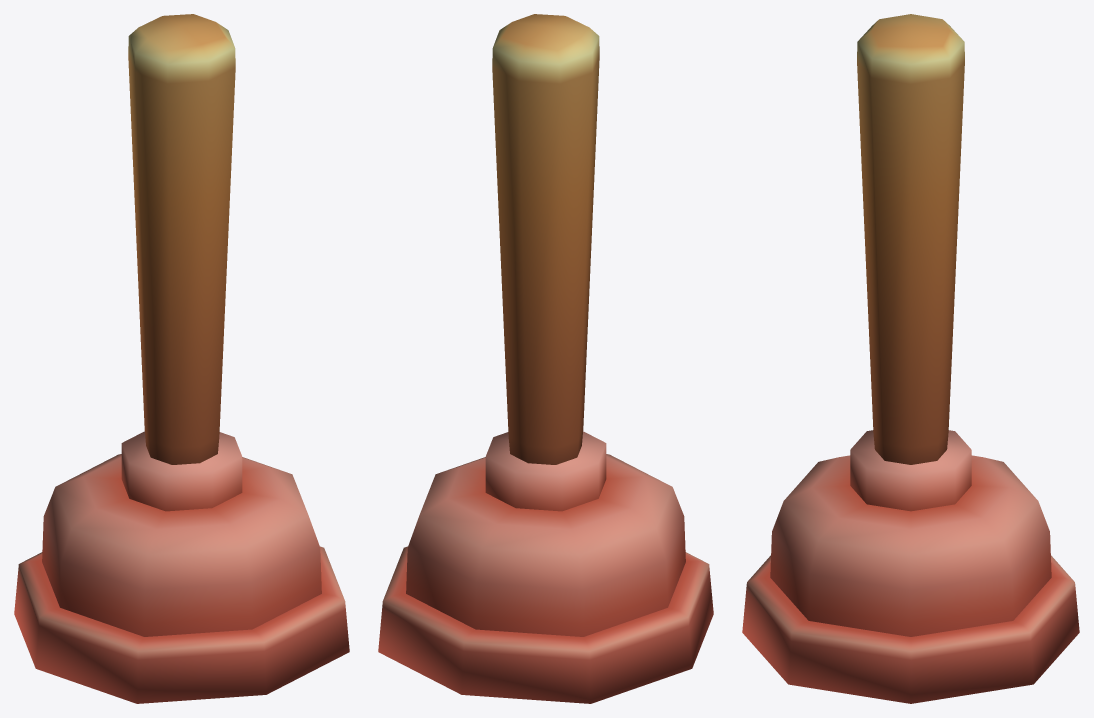
Rendered from Plunger.fbx.
3 renders of one model, left to right at view 1: azimuth 30°, elevation 25°; view 2: azimuth 150°, elevation 25°; view 3: azimuth 270°, elevation 25°, orthographic.
Parts seen in each view (by area): view 1: Plunger; view 2: Plunger; view 3: Plunger.
Boxes of the visible parts, <box> form: Plunger: <box>14,14,349,703</box>; Plunger: <box>378,14,713,703</box>; Plunger: <box>742,14,1079,703</box>.
Size of the model in its own units: 1.08 by 0.5435 by 0.5435.
